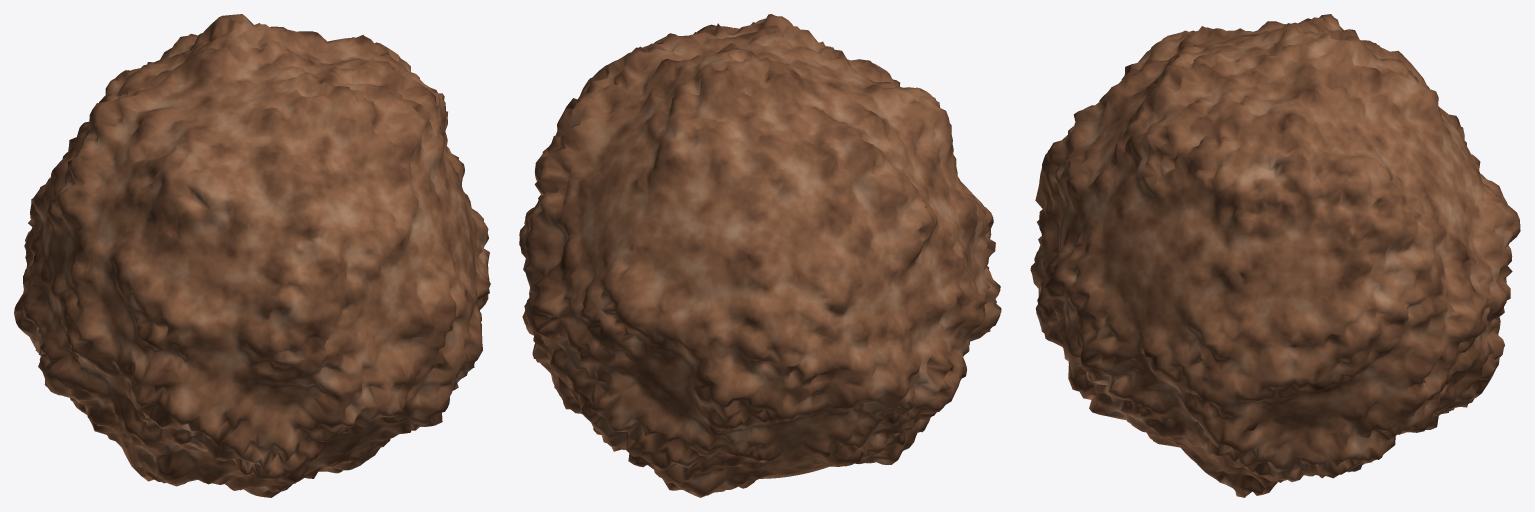
The model's file is procedural-coral-rock.glb.
3 renders of one model, left to right at view 1: azimuth 30°, elevation 25°; view 2: azimuth 150°, elevation 25°; view 3: azimuth 270°, elevation 25°, orthographic.
Visible parts, largest first — view 1: Procedural_Coral_Rock_GLB; view 2: Procedural_Coral_Rock_GLB; view 3: Procedural_Coral_Rock_GLB.
Boxes of the visible parts, <box> form: Procedural_Coral_Rock_GLB: <box>14,14,490,497</box>; Procedural_Coral_Rock_GLB: <box>519,14,1001,497</box>; Procedural_Coral_Rock_GLB: <box>1030,14,1520,497</box>.
Size of the model in its own units: 2.01 by 2.07 by 2.08.
Materials: 1 (1 with a texture image).
